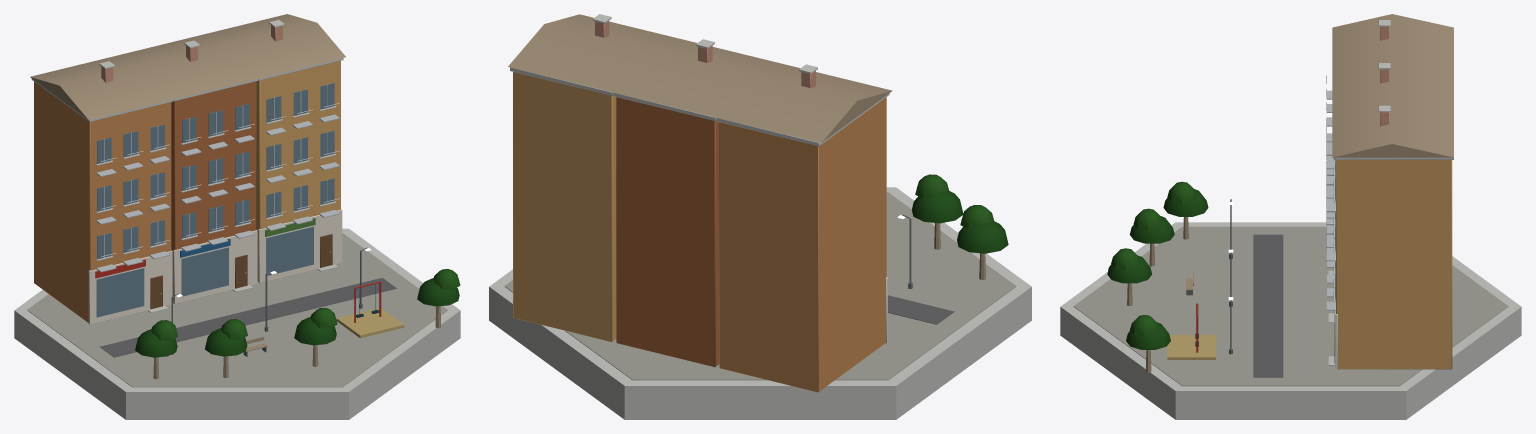
Rendered from housing_africa.glb.
The picture shows the model from 3 angles, left to right: view 1: azimuth 30°, elevation 25°; view 2: azimuth 150°, elevation 25°; view 3: azimuth 270°, elevation 25°; orthographic projection. The views are drawn at different scales.
Parts seen in each view (by area): view 1: plaster, pavers, wall_concrete, wood, glass, stone, leaf, metal, asphalt, paint, sandbag, brick (+1 smaller); view 2: plaster, wall_concrete, wood, pavers, leaf, asphalt, brick; view 3: pavers, plaster, wall_concrete, wood, leaf, asphalt, metal, sandbag.
Part boxes in pixels (x1,y1,x2,y2): plaster: (34,60,340,322); pavers: (27,233,447,387); wall_concrete: (14,20,460,419); wood: (30,14,441,379); glass: (96,83,334,317); stone: (88,209,342,324); leaf: (135,269,460,357); metal: (96,103,339,272); asphalt: (100,277,396,357); paint: (95,218,381,322); sandbag: (336,308,404,338); brick: (101,25,282,82); plaster: (513,72,886,392); wall_concrete: (489,14,1031,419); wood: (508,14,985,279); pavers: (504,192,1016,380); leaf: (912,174,1008,253); asphalt: (888,295,954,324); brick: (595,21,815,87); pavers: (1073,226,1508,386); plaster: (1336,160,1452,369); wall_concrete: (1060,20,1521,419); wood: (1127,14,1453,372); leaf: (1107,181,1208,349); asphalt: (1253,234,1283,377); metal: (1326,75,1335,310); sandbag: (1167,335,1215,359).
Size of the model in its own units: 21.3 by 15.9 by 24.6.
